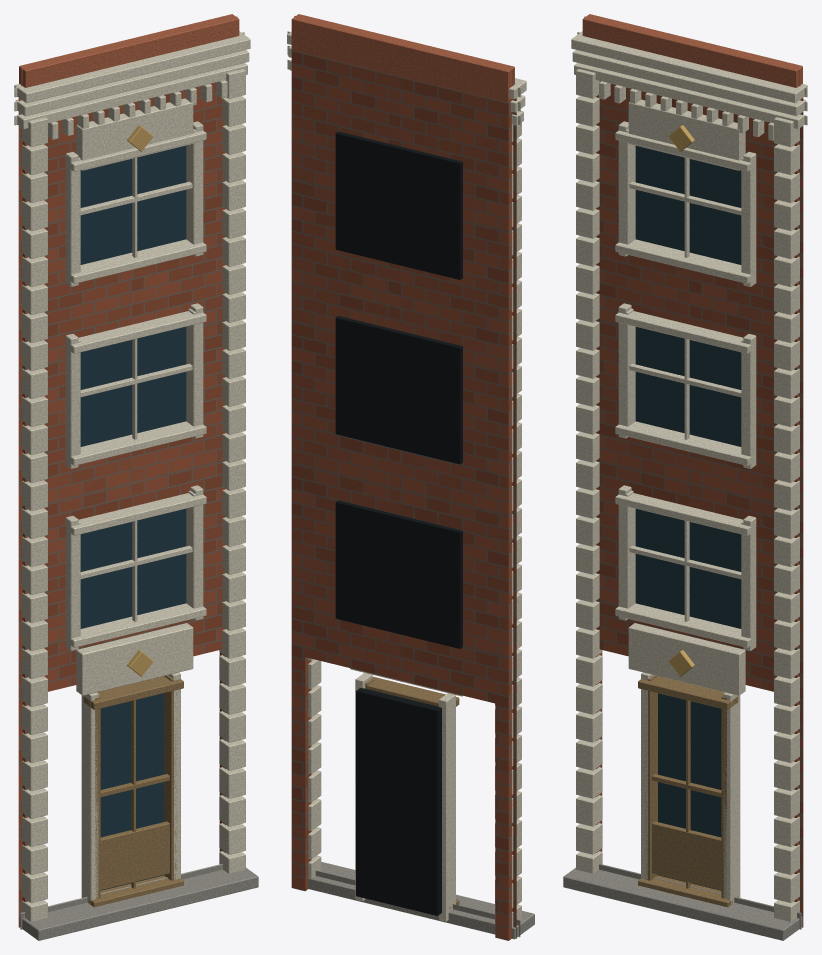
File: OFFC16_lod1.glb
3 renders of one model, left to right at view 1: azimuth 30°, elevation 25°; view 2: azimuth 150°, elevation 25°; view 3: azimuth 330°, elevation 25°, orthographic.
Visible parts, largest first — view 1: OFFC16_FRONT_LOD1; view 2: OFFC16_FRONT_LOD1; view 3: OFFC16_FRONT_LOD1.
Part boxes in pixels (x1=…): OFFC16_FRONT_LOD1: x1=14, y1=14, x2=258, y2=940; OFFC16_FRONT_LOD1: x1=287, y1=14, x2=534, y2=940; OFFC16_FRONT_LOD1: x1=563, y1=14, x2=807, y2=940.
Bounding box in the file's own units: 3.44 × 12.26 × 0.68.
9 materials, 6 textured.
